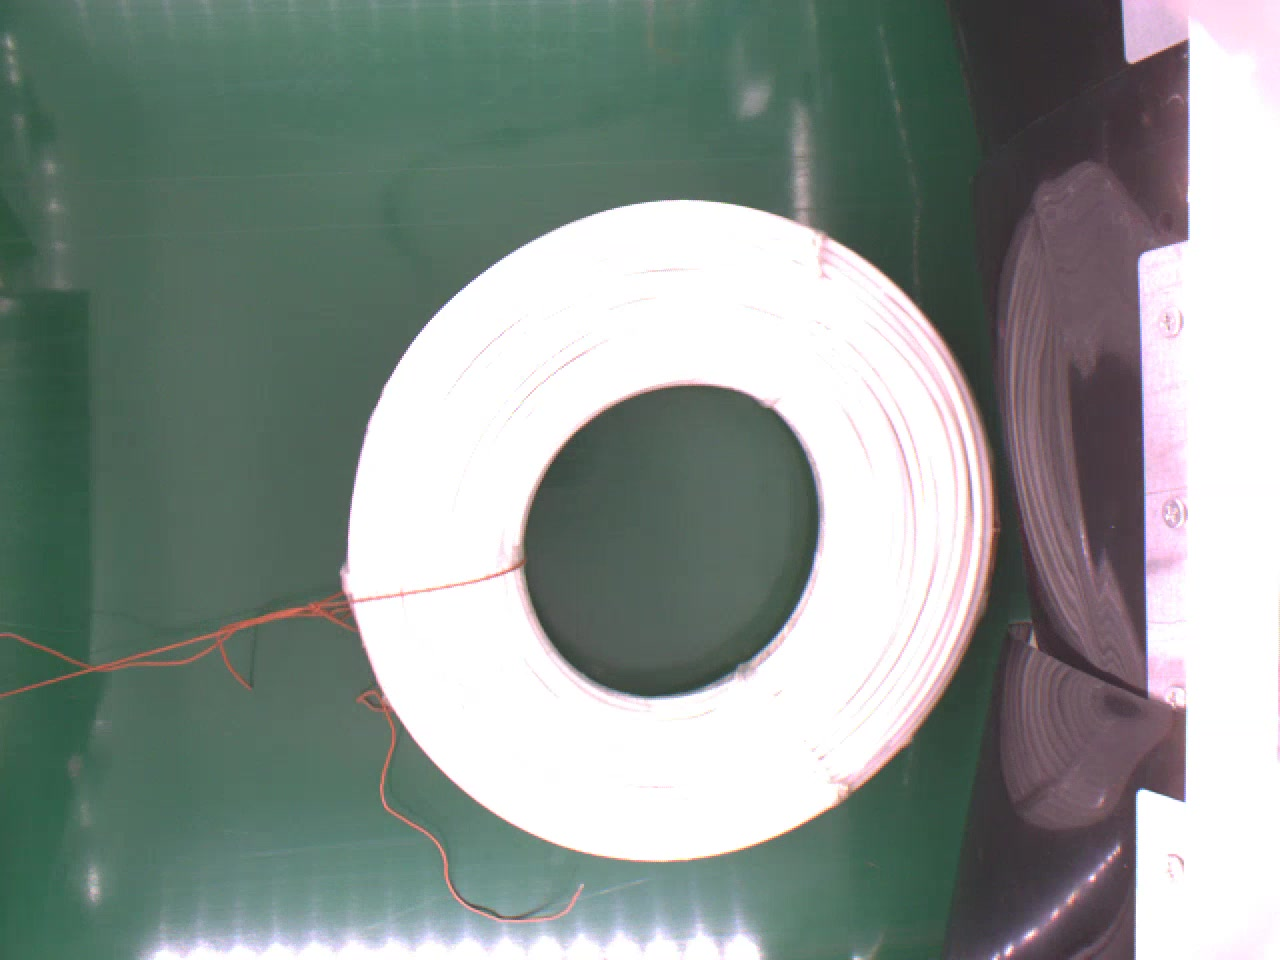white: (342, 196, 1020, 868)
